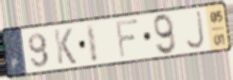9: (152, 13, 178, 56), (27, 32, 49, 69)
F: (114, 17, 141, 61)
I: (84, 22, 100, 65)
J: (184, 9, 207, 51)
K: (52, 27, 78, 66)
